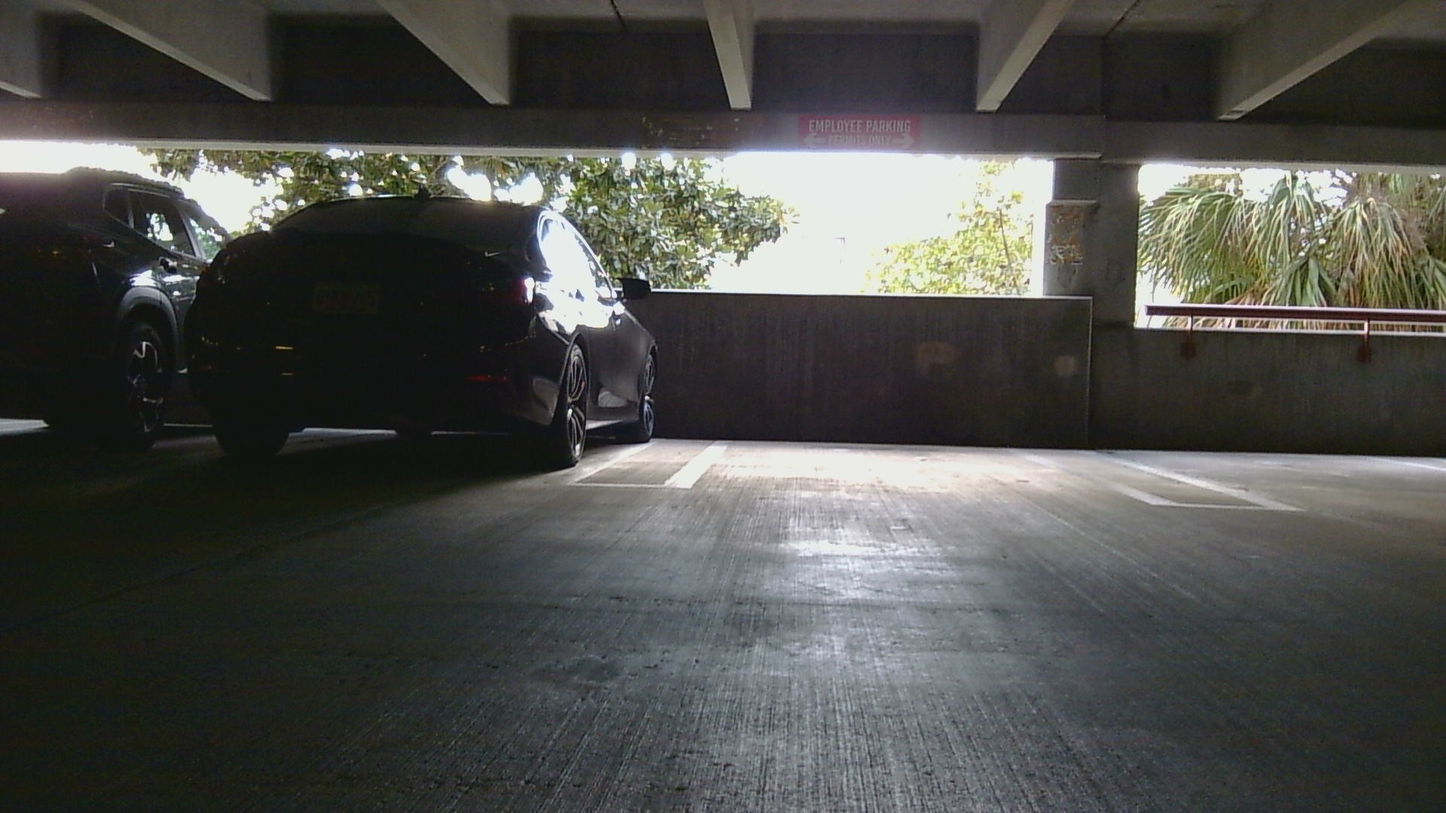empty_spot: (625, 346, 1255, 512), (1059, 357, 1446, 519)
occupied_spot: (173, 185, 685, 495), (0, 162, 243, 470)
